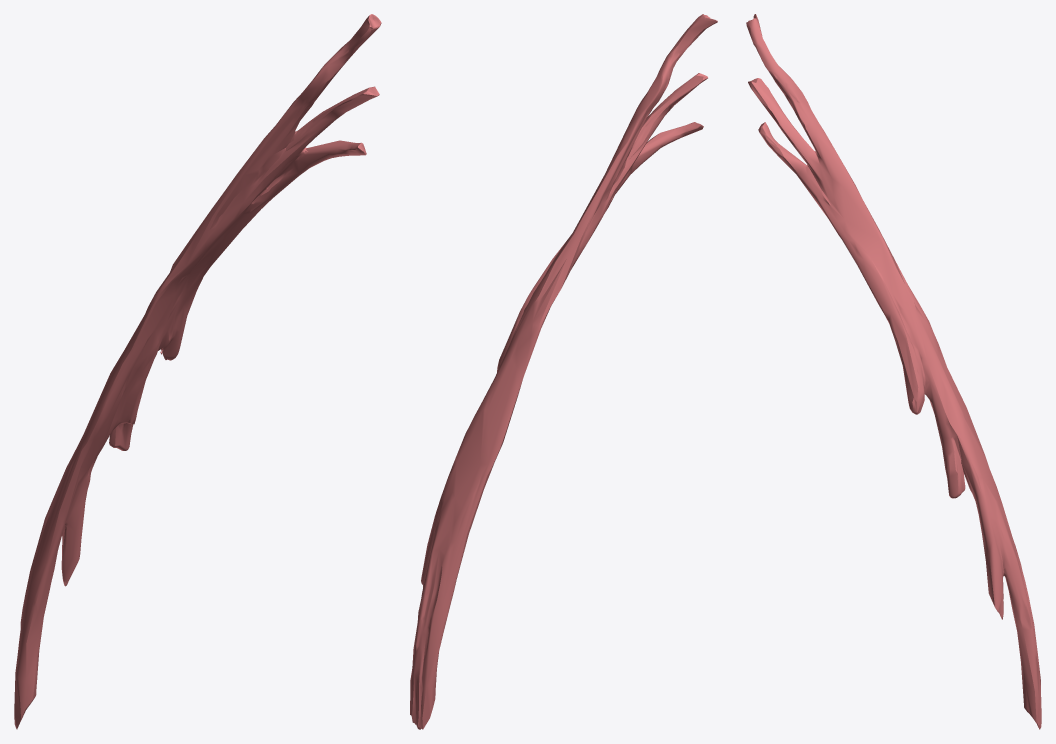
3 renders of one model, left to right at view 1: azimuth 90°, elevation 25°; view 2: azimuth 150°, elevation 25°; view 3: azimuth 270°, elevation 25°, orthographic. The views are drawn at different scales.
Visible parts, largest first — view 1: FJ1526M; view 2: FJ1526M; view 3: FJ1526M.
Part boxes in pixels (x1,y1,x2,y2): FJ1526M: [14, 14, 381, 729]; FJ1526M: [410, 14, 717, 729]; FJ1526M: [746, 14, 1041, 729].
Size of the model in its own units: 0.0509 by 0.179 by 0.0745.
